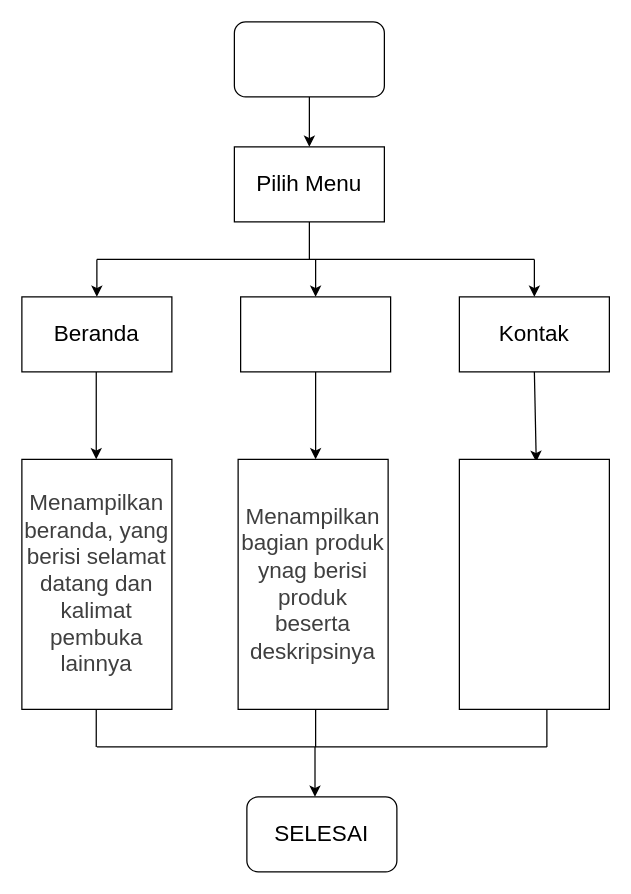
Some shapes in this 631 by 894 pixel diagram are drawn without their labels. The centre of each missing label's shape, as x and y in pixels:
Menampilkan informasi kontak pemilik usaha, serta kotak pengirim pesan: pixel 533 583
MULAI: pixel 308 59
Produk: pixel 315 334
